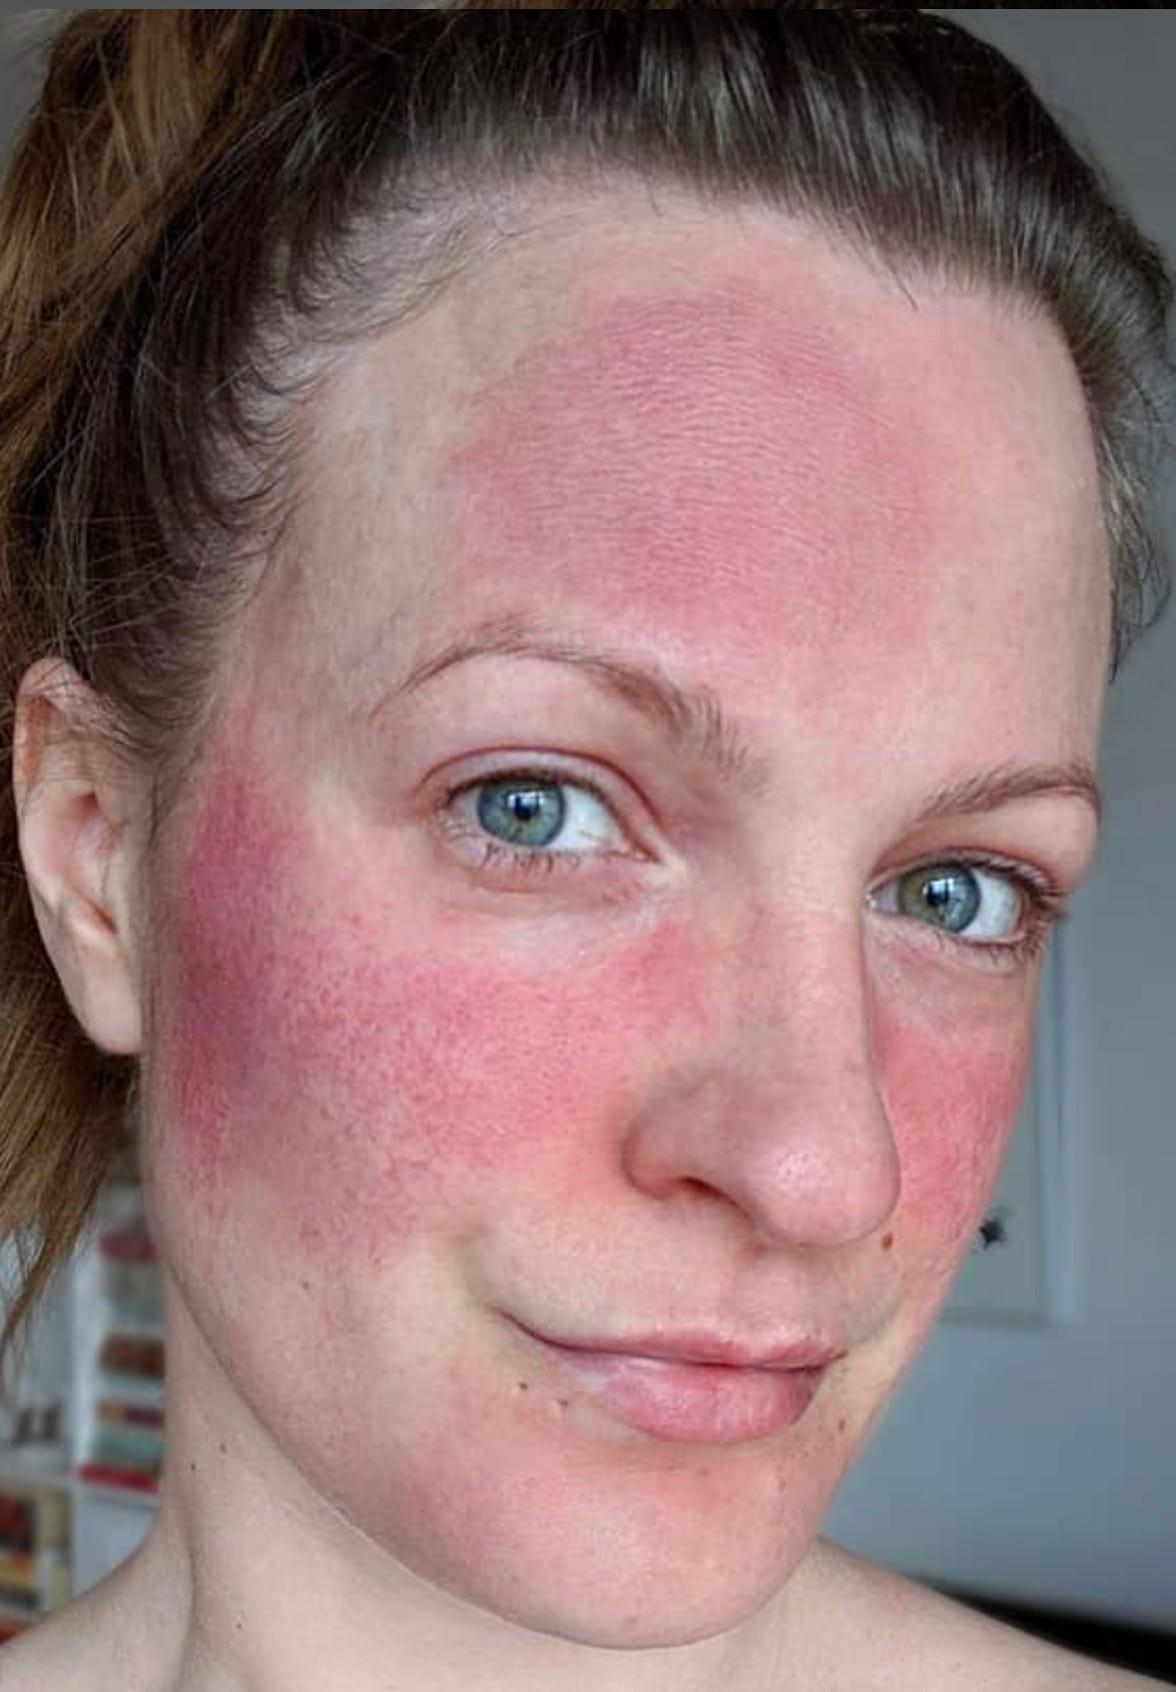Skin-Redness: (492, 265, 965, 688), (162, 786, 510, 1287), (870, 987, 1023, 1315)
